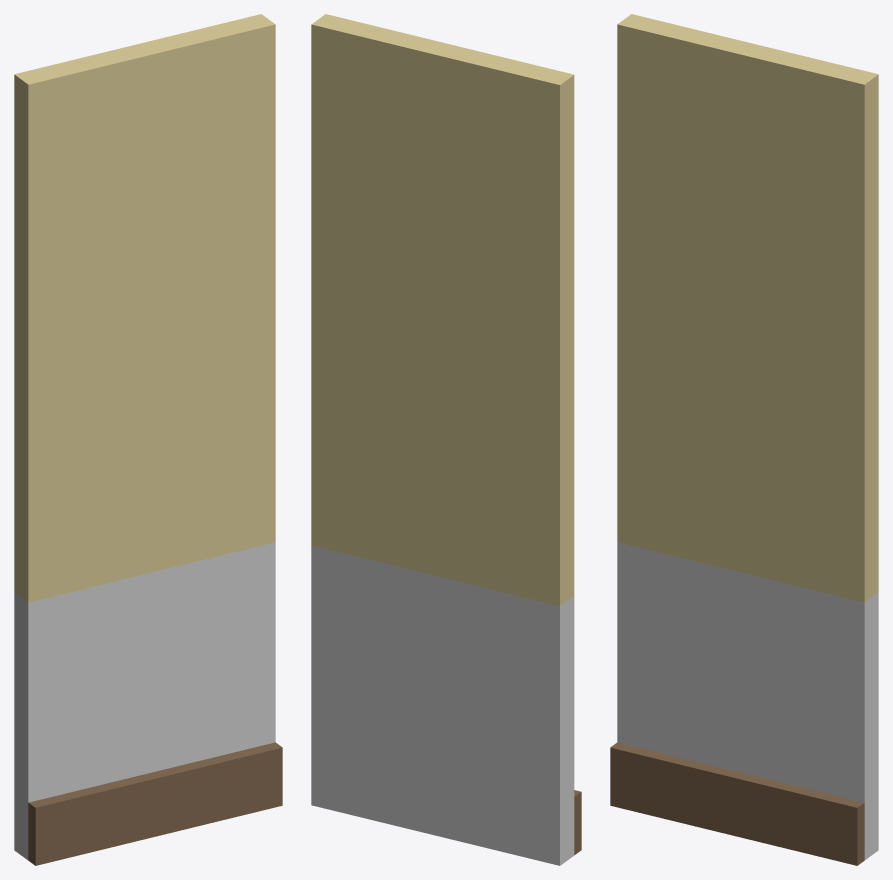
Rendered from Mesh_WallBaseboard2Colors_I1.fbx.
3 renders of one model, left to right at view 1: azimuth 30°, elevation 25°; view 2: azimuth 150°, elevation 25°; view 3: azimuth 330°, elevation 25°, orthographic.
Parts seen in each view (by area): view 1: Mesh_WallBaseboard2Colors_I1; view 2: Mesh_WallBaseboard2Colors_I1; view 3: Mesh_WallBaseboard2Colors_I1.
Part boxes in pixels (x1,y1,x2,y2): Mesh_WallBaseboard2Colors_I1: (14, 14, 282, 865); Mesh_WallBaseboard2Colors_I1: (311, 14, 581, 865); Mesh_WallBaseboard2Colors_I1: (610, 14, 878, 865).
Bounding box in the file's own units: 1 × 3 × 0.15.
